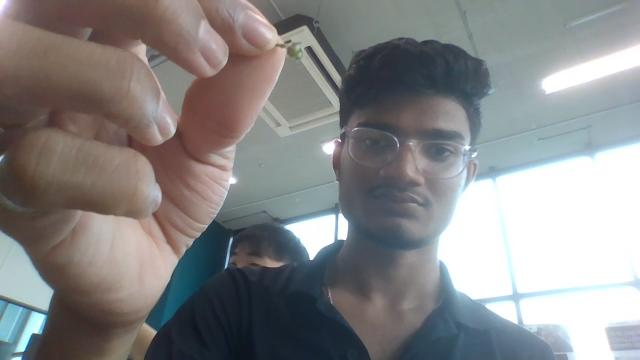Fruit Bud: (285, 40, 303, 59)
